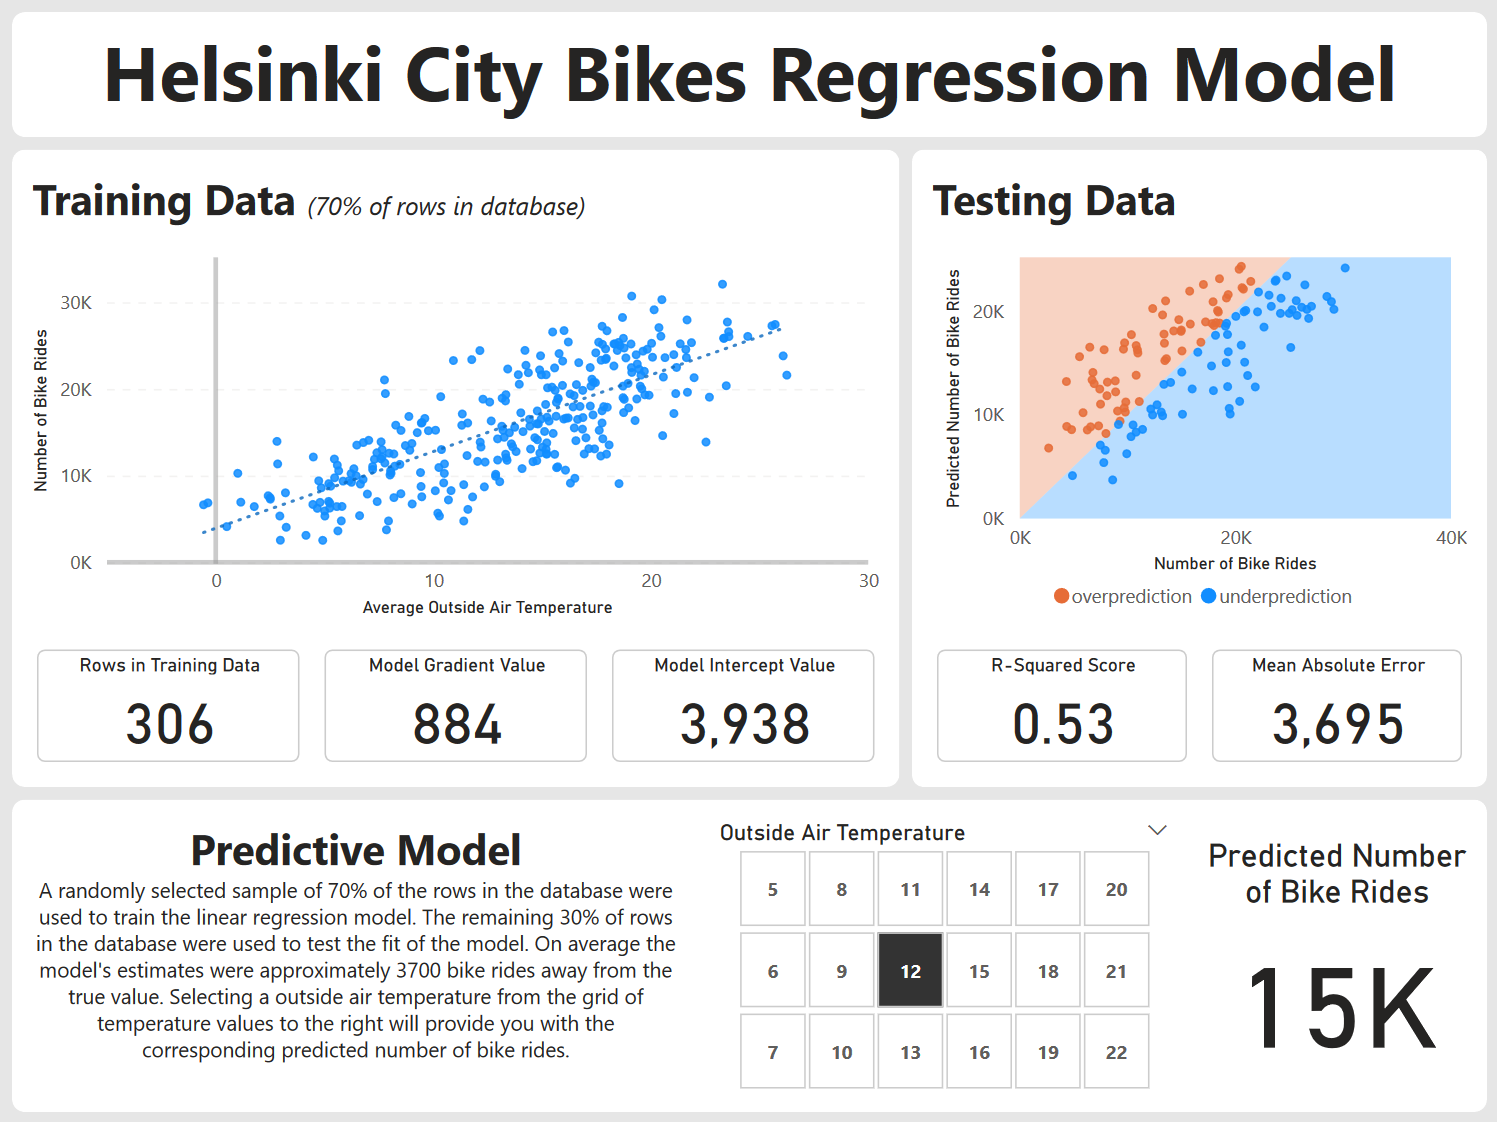

What the dashboard file says about the page in this screenshot:
{"tool":"powerbi","page":{"name":"Linear Regression Model","canvas":[960,720],"ordinal":0},"visuals":[{"type":"shape","box":[8,512,944,200],"z":0},{"type":"slicer","fields":{"Values":["AvgAirTempParameter.AvgAirTempParameter"]},"box":[440,520,344,184],"z":1000},{"type":"card","title":"Predicted Number of Bike Rides","fields":{"Values":["AvgAirTempParameter.PredictedRides"]},"box":[768,536,176,152],"z":2000},{"type":"shape","box":[8,8,944,80],"z":3000},{"type":"shape","box":[8,96,568,408],"z":4000},{"type":"shape","box":[584,96,368,408],"z":5000},{"type":"scatterChart","fields":{"Y":["TrainData.Rides"],"X":["TrainData.AvgAirTemp"]},"box":[16,152,552,248],"z":5002},{"type":"scatterChart","fields":{"X":["TestData.Rides"],"Y":["TestData.PredictedRides"]},"box":[592,152,352,248],"z":5005},{"type":"textbox","box":[16,8,928,80],"z":5008},{"type":"card","title":"Rows","fields":{"Values":["CountNonNull(TrainData.Date)"]},"box":[24,416,168,72],"z":5009},{"type":"textbox","box":[16,104,552,48],"z":5010},{"type":"textbox","box":[592,104,352,48],"z":5011},{"type":"card","title":"Model Gradient Value","fields":{"Values":["TrainData.Gradient"]},"box":[208,416,168,72],"z":5012},{"type":"card","title":"Model Intercept Value","fields":{"Values":["TrainData.Intercept"]},"box":[392,416,168,72],"z":5013},{"type":"card","title":"R Squared Score","fields":{"Values":["TestData.CoefficientOfDetermination"]},"box":[600,416,160,72],"z":5014},{"type":"card","title":"Mean Absolute Error","fields":{"Values":["TestData.MeanAbsoluteError"]},"box":[776,416,160,72],"z":5015}]}

Visuals, with their boxes in screenshot pixels (x1, y1, x2, y2), scaled from the page's 960x720 canvas onto the 1497x1122 screenshot:
shape: [left=12, top=798, right=1485, bottom=1110]
slicer - AvgAirTempParameter.AvgAirTempParameter: [left=686, top=810, right=1223, bottom=1097]
"Predicted Number of Bike Rides" card: [left=1198, top=835, right=1472, bottom=1072]
shape: [left=12, top=12, right=1485, bottom=137]
shape: [left=12, top=150, right=898, bottom=785]
shape: [left=911, top=150, right=1485, bottom=785]
scatterChart - TrainData.Rides x TrainData.AvgAirTemp: [left=25, top=237, right=886, bottom=623]
scatterChart - TestData.Rides x TestData.PredictedRides: [left=923, top=237, right=1472, bottom=623]
textbox: [left=25, top=12, right=1472, bottom=137]
"Rows" card: [left=37, top=648, right=299, bottom=760]
textbox: [left=25, top=162, right=886, bottom=237]
textbox: [left=923, top=162, right=1472, bottom=237]
"Model Gradient Value" card: [left=324, top=648, right=586, bottom=760]
"Model Intercept Value" card: [left=611, top=648, right=873, bottom=760]
"R Squared Score" card: [left=936, top=648, right=1185, bottom=760]
"Mean Absolute Error" card: [left=1210, top=648, right=1460, bottom=760]
